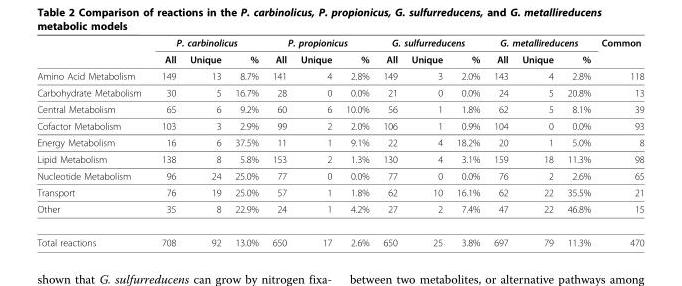table: (36, 36, 643, 247)
table column: (36, 36, 150, 247), (595, 36, 643, 247), (182, 36, 227, 247), (293, 36, 338, 247), (403, 36, 448, 247), (514, 36, 559, 247), (448, 36, 486, 247), (227, 36, 264, 247), (338, 36, 375, 247), (559, 36, 595, 247), (150, 36, 182, 247), (264, 36, 293, 247), (375, 36, 403, 247), (486, 36, 514, 247)
table column header: (36, 36, 643, 67)
table row: (36, 200, 643, 225), (36, 225, 643, 247), (36, 50, 643, 67), (36, 67, 643, 84), (36, 100, 643, 117), (36, 133, 643, 150), (36, 150, 643, 167), (36, 183, 643, 200), (36, 84, 643, 100), (36, 117, 643, 133), (36, 167, 643, 183), (36, 36, 643, 50)
table spanning cell: (150, 36, 264, 50), (264, 36, 375, 50), (375, 36, 486, 50), (486, 36, 595, 50), (595, 36, 643, 67)
